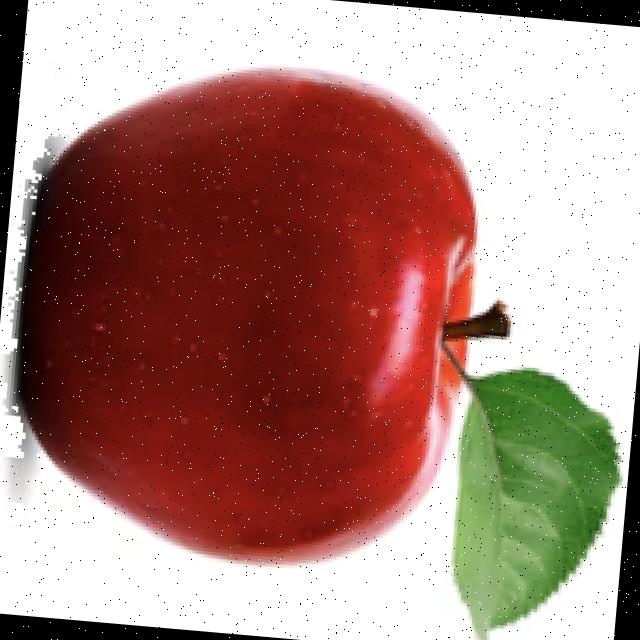apple: (0, 61, 627, 640)
